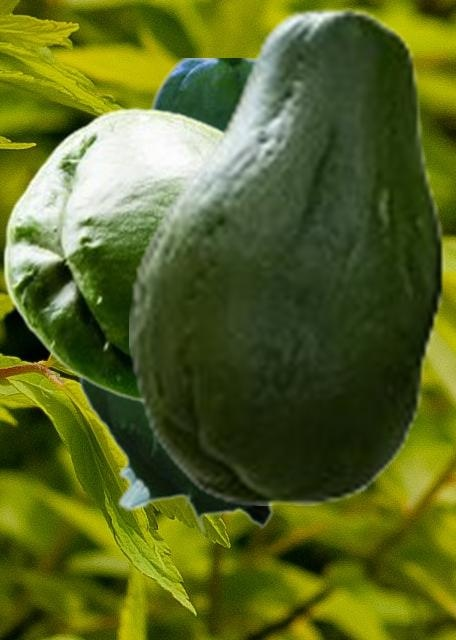sayote: (129, 7, 444, 504), (78, 58, 370, 536), (2, 107, 223, 402)
